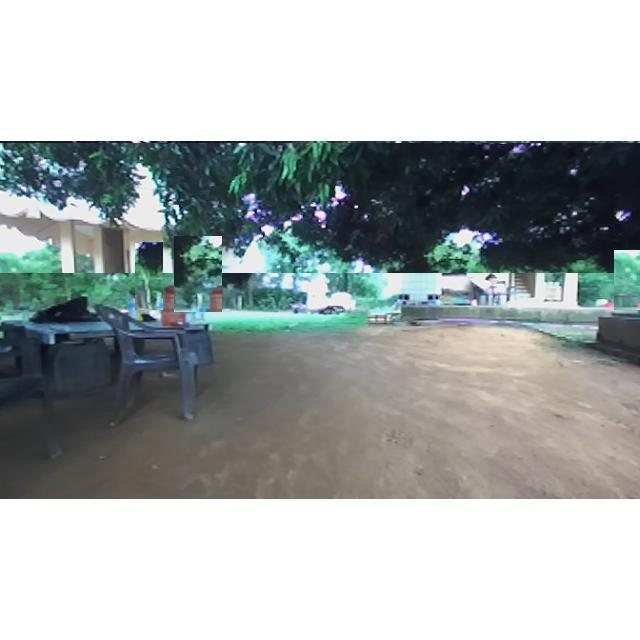direk: (0, 143, 640, 273), (174, 236, 222, 312), (135, 242, 163, 310), (614, 250, 640, 310)
